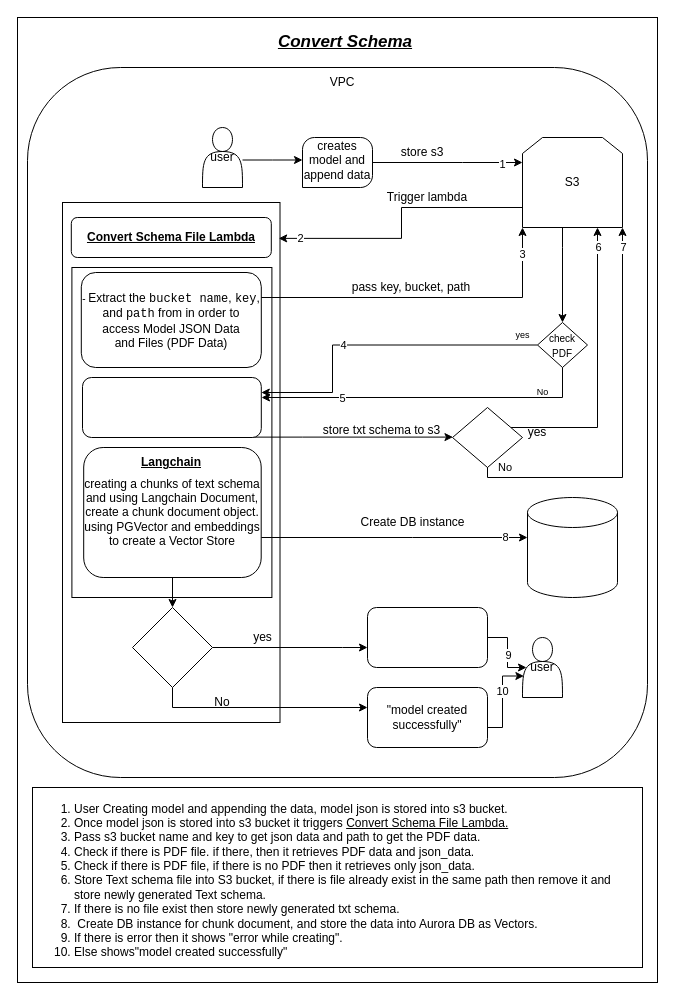
Image size: 675x1000. Some labels were removed from this diagram. The shapes that lost their labels are listed below. From the top down, each one's box as (x1, y1, x2, y2) in pixels, then its label:
(82, 376, 261, 438): convert json_schema into Text schema
(452, 406, 522, 468): if txt file already exist
(526, 496, 618, 598): Aurora DB
(132, 606, 212, 688): If Error
(366, 606, 488, 668): " Error while creating "
